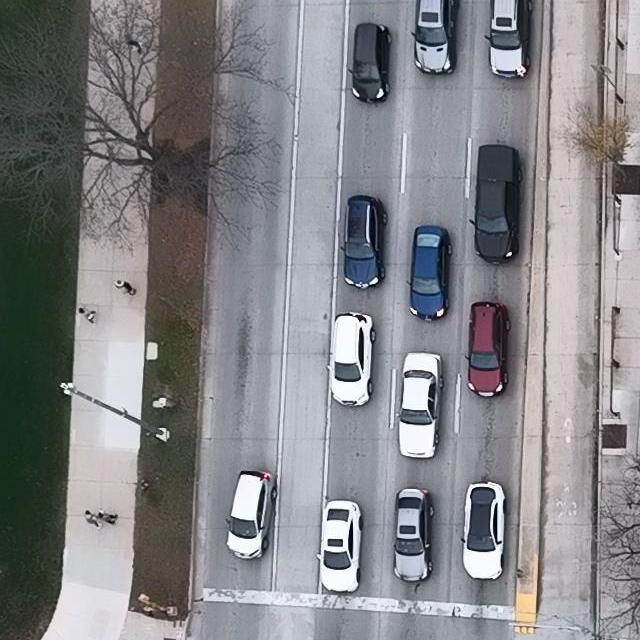car: (469, 143, 524, 266), (396, 351, 445, 459), (326, 311, 376, 407), (226, 470, 278, 562), (339, 194, 388, 290), (460, 480, 507, 579), (464, 302, 512, 398), (407, 226, 453, 322), (317, 499, 362, 593), (392, 487, 435, 583), (347, 22, 393, 105), (484, 0, 533, 77), (410, 0, 457, 76)
